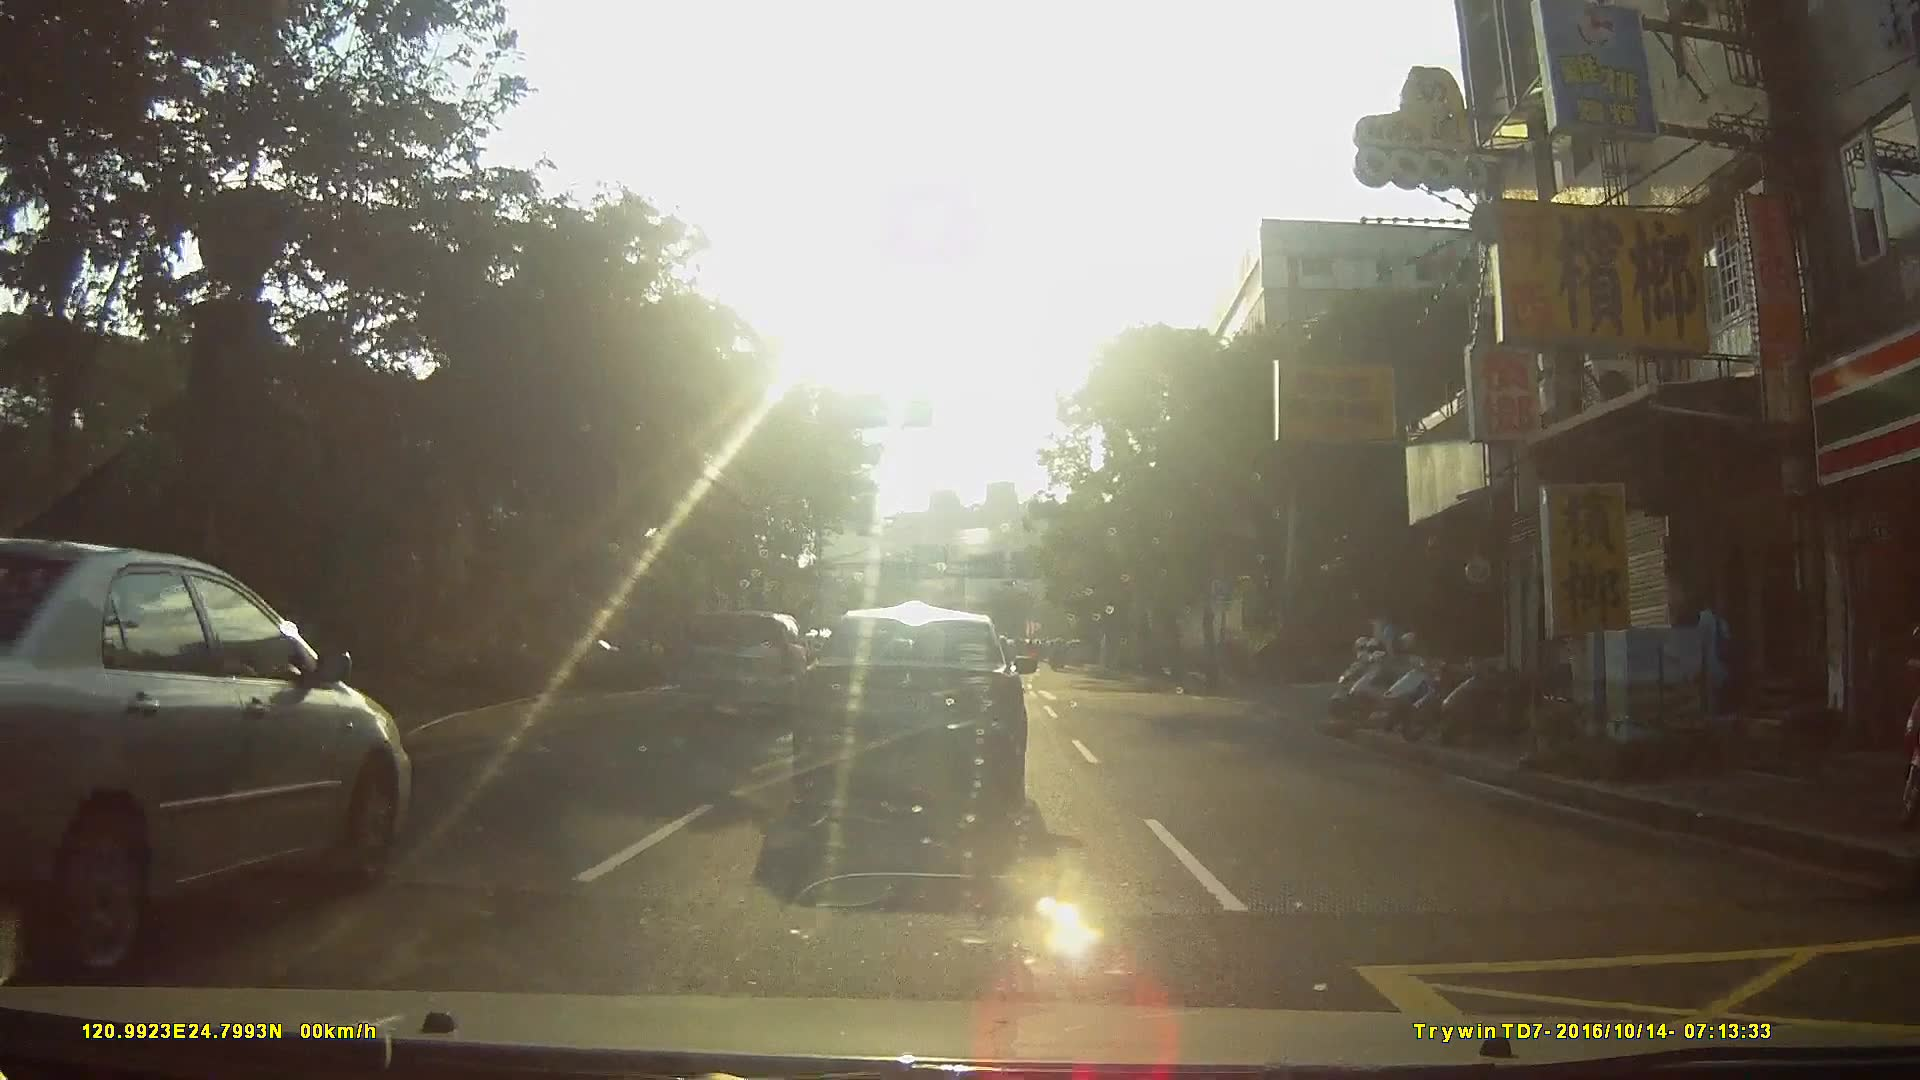pedestrian: (1674, 587, 1741, 740)
vehicle: (1, 531, 429, 971), (802, 600, 1054, 820), (679, 609, 818, 723), (1065, 636, 1096, 664)
